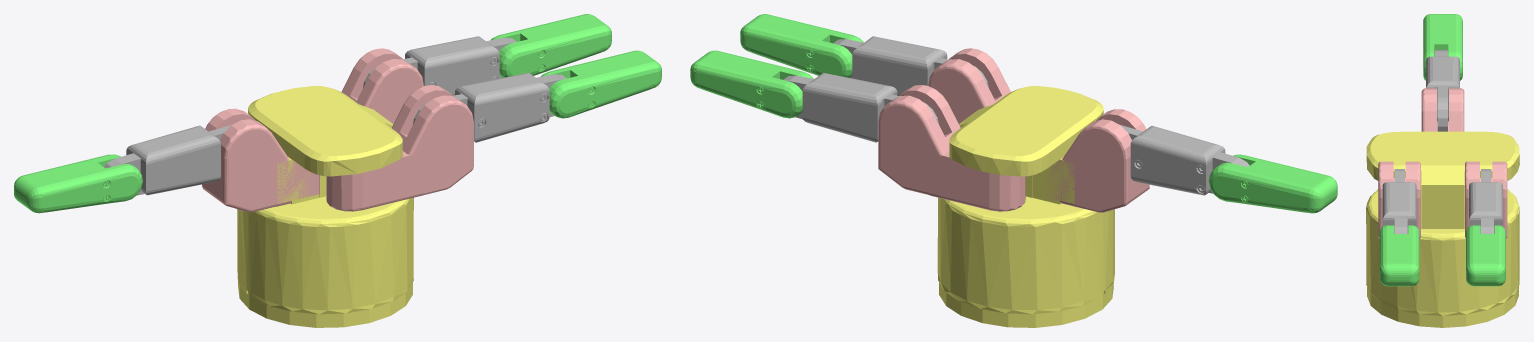
File: barrett-hand.dae
The picture shows the model from 3 angles, left to right: view 1: azimuth 30°, elevation 25°; view 2: azimuth 150°, elevation 25°; view 3: azimuth 270°, elevation 25°; orthographic projection. The views are drawn at different scales.
Parts seen in each view (by area): view 1: handbase (×2), Finger0-0, Finger2-2, Finger2-1, Finger0-2, Finger1-2, Finger0-1, Finger1-1, Finger1-0; view 2: handbase (×2), Finger1-0, Finger2-2, Finger2-1, Finger1-2, Finger1-1, Finger0-2, Finger0-1, Finger0-0; view 3: handbase (×2), Finger0-2, Finger1-2, Finger0-1, Finger1-1, Finger2-2, Finger2-1, Finger0-0, Finger1-0.
Boxes of the visible parts, bbox=[...] form: handbase (×2): bbox=[202, 86, 413, 327]; Finger0-0: bbox=[326, 85, 473, 211]; Finger2-2: bbox=[14, 154, 142, 213]; Finger2-1: bbox=[104, 125, 231, 195]; Finger0-2: bbox=[540, 50, 661, 118]; Finger1-2: bbox=[490, 14, 611, 77]; Finger0-1: bbox=[413, 72, 566, 142]; Finger1-1: bbox=[363, 36, 516, 95]; Finger1-0: bbox=[341, 48, 423, 123]; handbase (×2): bbox=[937, 86, 1149, 327]; Finger1-0: bbox=[878, 85, 1025, 211]; Finger2-2: bbox=[1209, 154, 1337, 213]; Finger2-1: bbox=[1120, 125, 1249, 195]; Finger1-2: bbox=[690, 50, 813, 118]; Finger1-1: bbox=[783, 72, 938, 142]; Finger0-2: bbox=[740, 14, 863, 77]; Finger0-1: bbox=[833, 36, 988, 95]; Finger0-0: bbox=[928, 48, 1010, 123]; handbase (×2): bbox=[1366, 88, 1519, 327]; Finger0-2: bbox=[1379, 225, 1419, 286]; Finger1-2: bbox=[1466, 225, 1505, 286]; Finger0-1: bbox=[1382, 169, 1416, 233]; Finger1-1: bbox=[1469, 169, 1502, 233]; Finger2-2: bbox=[1423, 14, 1462, 80]; Finger2-1: bbox=[1426, 50, 1459, 131]; Finger0-0: bbox=[1378, 161, 1420, 238]; Finger1-0: bbox=[1465, 161, 1507, 238].
Size of the model in its own units: 0.352 by 0.089 by 0.1081.
